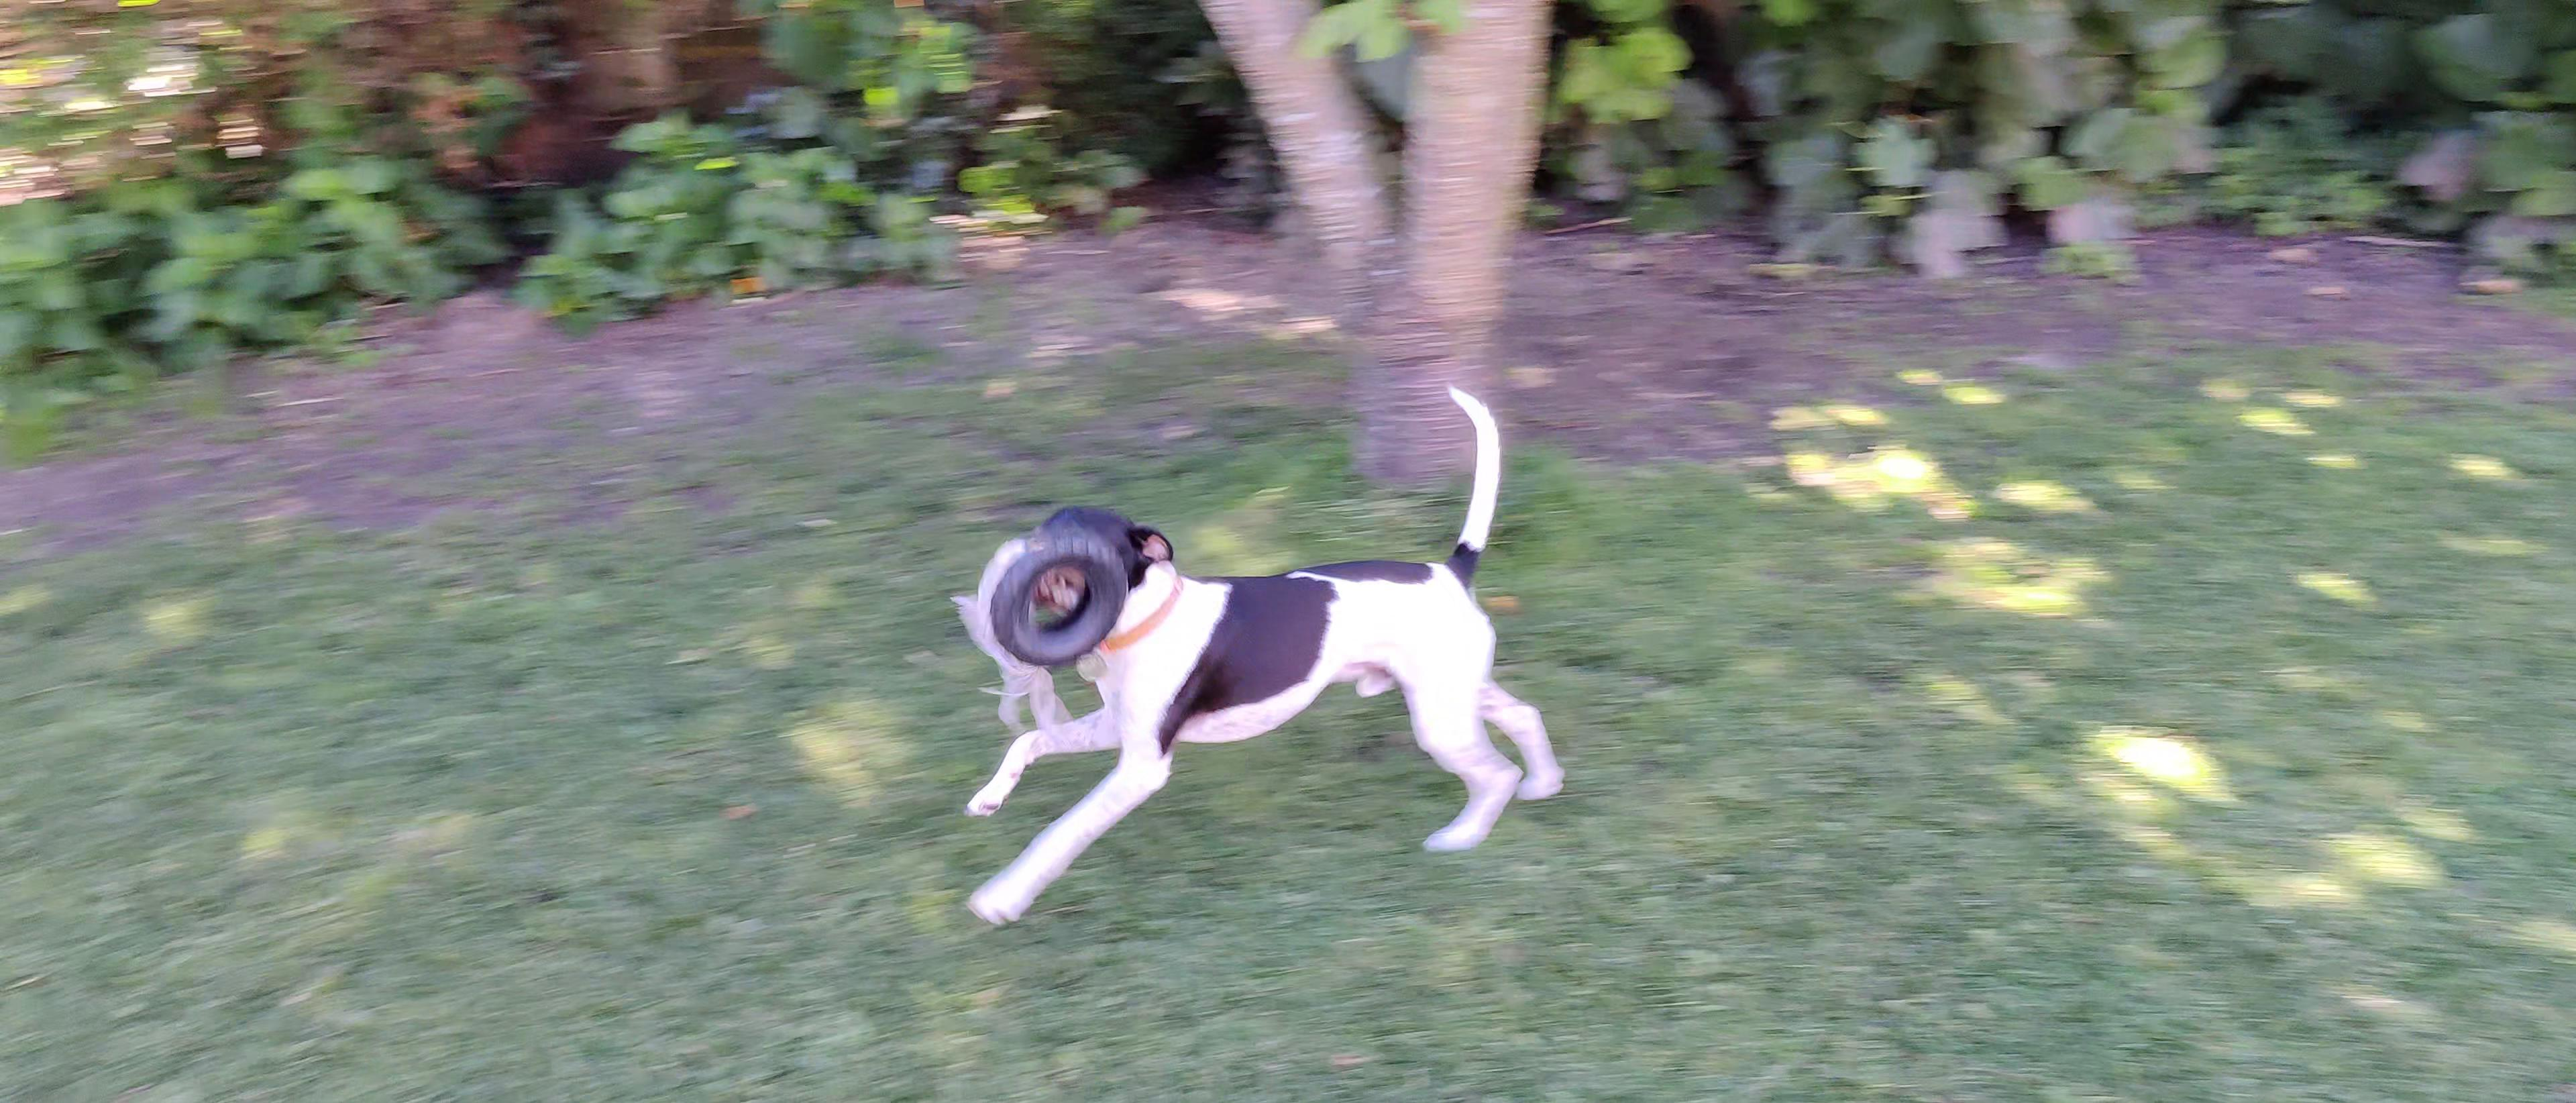Dog: (925, 373, 1580, 942)
